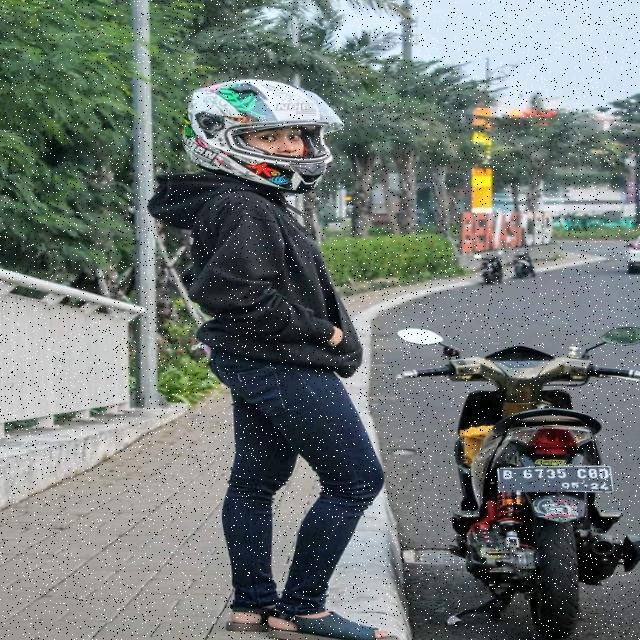Helmet: (180, 77, 352, 199)
